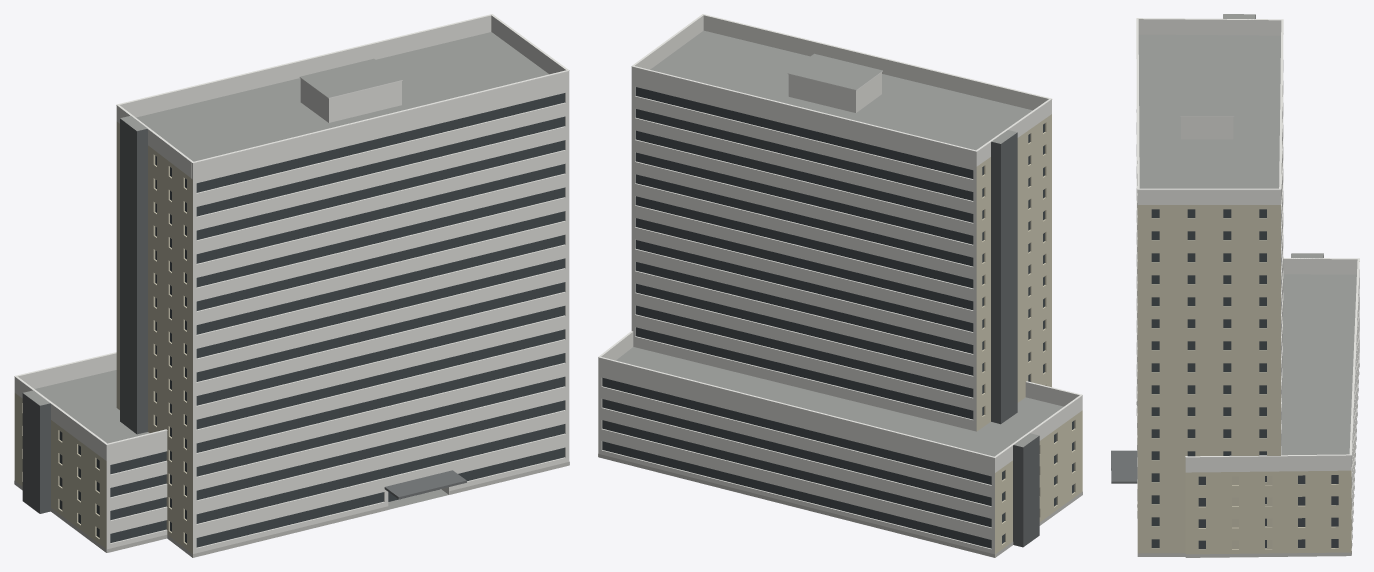
3 views of the same model, side by side, from view 1: azimuth 30°, elevation 25°; view 2: azimuth 150°, elevation 25°; view 3: azimuth 270°, elevation 25° (orthographic). The views are drawn at different scales.
Visible parts, largest first — view 1: hospitalMain__wall, hospitalMain__glass, hospitalMain__roof, hospitalMain__wall2, hospitalMain__parapet, hospitalMain__steel, hospitalMain__frame, hospitalMain__trim, hospitalMain__base, hospitalMain__canopy; view 2: hospitalMain__wall, hospitalMain__glass, hospitalMain__roof, hospitalMain__parapet, hospitalMain__wall2, hospitalMain__steel, hospitalMain__frame, hospitalMain__trim, hospitalMain__base; view 3: hospitalMain__wall2, hospitalMain__roof, hospitalMain__parapet, hospitalMain__glass, hospitalMain__wall, hospitalMain__trim, hospitalMain__base, hospitalMain__canopy.
Boxes of the visible parts, left/top/right/bottom form: hospitalMain__wall: left=106, top=79, right=569, bottom=553; hospitalMain__glass: left=59, top=93, right=564, bottom=547; hospitalMain__roof: left=23, top=32, right=548, bottom=509; hospitalMain__wall2: left=14, top=121, right=192, bottom=557; hospitalMain__parapet: left=14, top=15, right=569, bottom=461; hospitalMain__steel: left=22, top=118, right=147, bottom=513; hospitalMain__frame: left=119, top=95, right=554, bottom=544; hospitalMain__trim: left=14, top=14, right=569, bottom=445; hospitalMain__base: left=14, top=461, right=569, bottom=557; hospitalMain__canopy: left=384, top=470, right=466, bottom=499; hospitalMain__wall: left=598, top=72, right=994, bottom=554; hospitalMain__glass: left=602, top=87, right=1074, bottom=548; hospitalMain__roof: left=616, top=30, right=1063, bottom=456; hospitalMain__parapet: left=598, top=15, right=1082, bottom=472; hospitalMain__wall2: left=976, top=114, right=1082, bottom=557; hospitalMain__steel: left=991, top=132, right=1039, bottom=547; hospitalMain__frame: left=611, top=89, right=982, bottom=546; hospitalMain__trim: left=598, top=14, right=1082, bottom=458; hospitalMain__base: left=598, top=453, right=1082, bottom=557; hospitalMain__wall2: left=1137, top=205, right=1351, bottom=554; hospitalMain__roof: left=1138, top=14, right=1356, bottom=455; hospitalMain__parapet: left=1137, top=19, right=1359, bottom=472; hospitalMain__glass: left=1151, top=209, right=1338, bottom=549; hospitalMain__wall: left=1136, top=60, right=1359, bottom=547; hospitalMain__trim: left=1136, top=18, right=1359, bottom=457; hospitalMain__base: left=1136, top=363, right=1359, bottom=557; hospitalMain__canopy: left=1111, top=450, right=1137, bottom=483.
Bounding box in the file's own units: 73.87 × 63.4 × 38.07.
